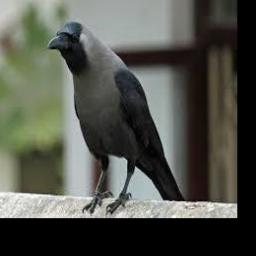Crow: (47, 21, 186, 216)
